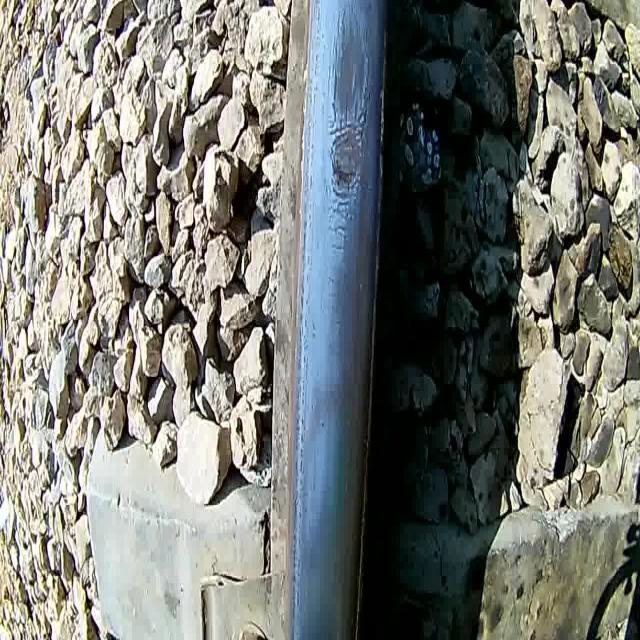Cracks: (356, 84, 373, 148)
Squats: (323, 2, 376, 240)
